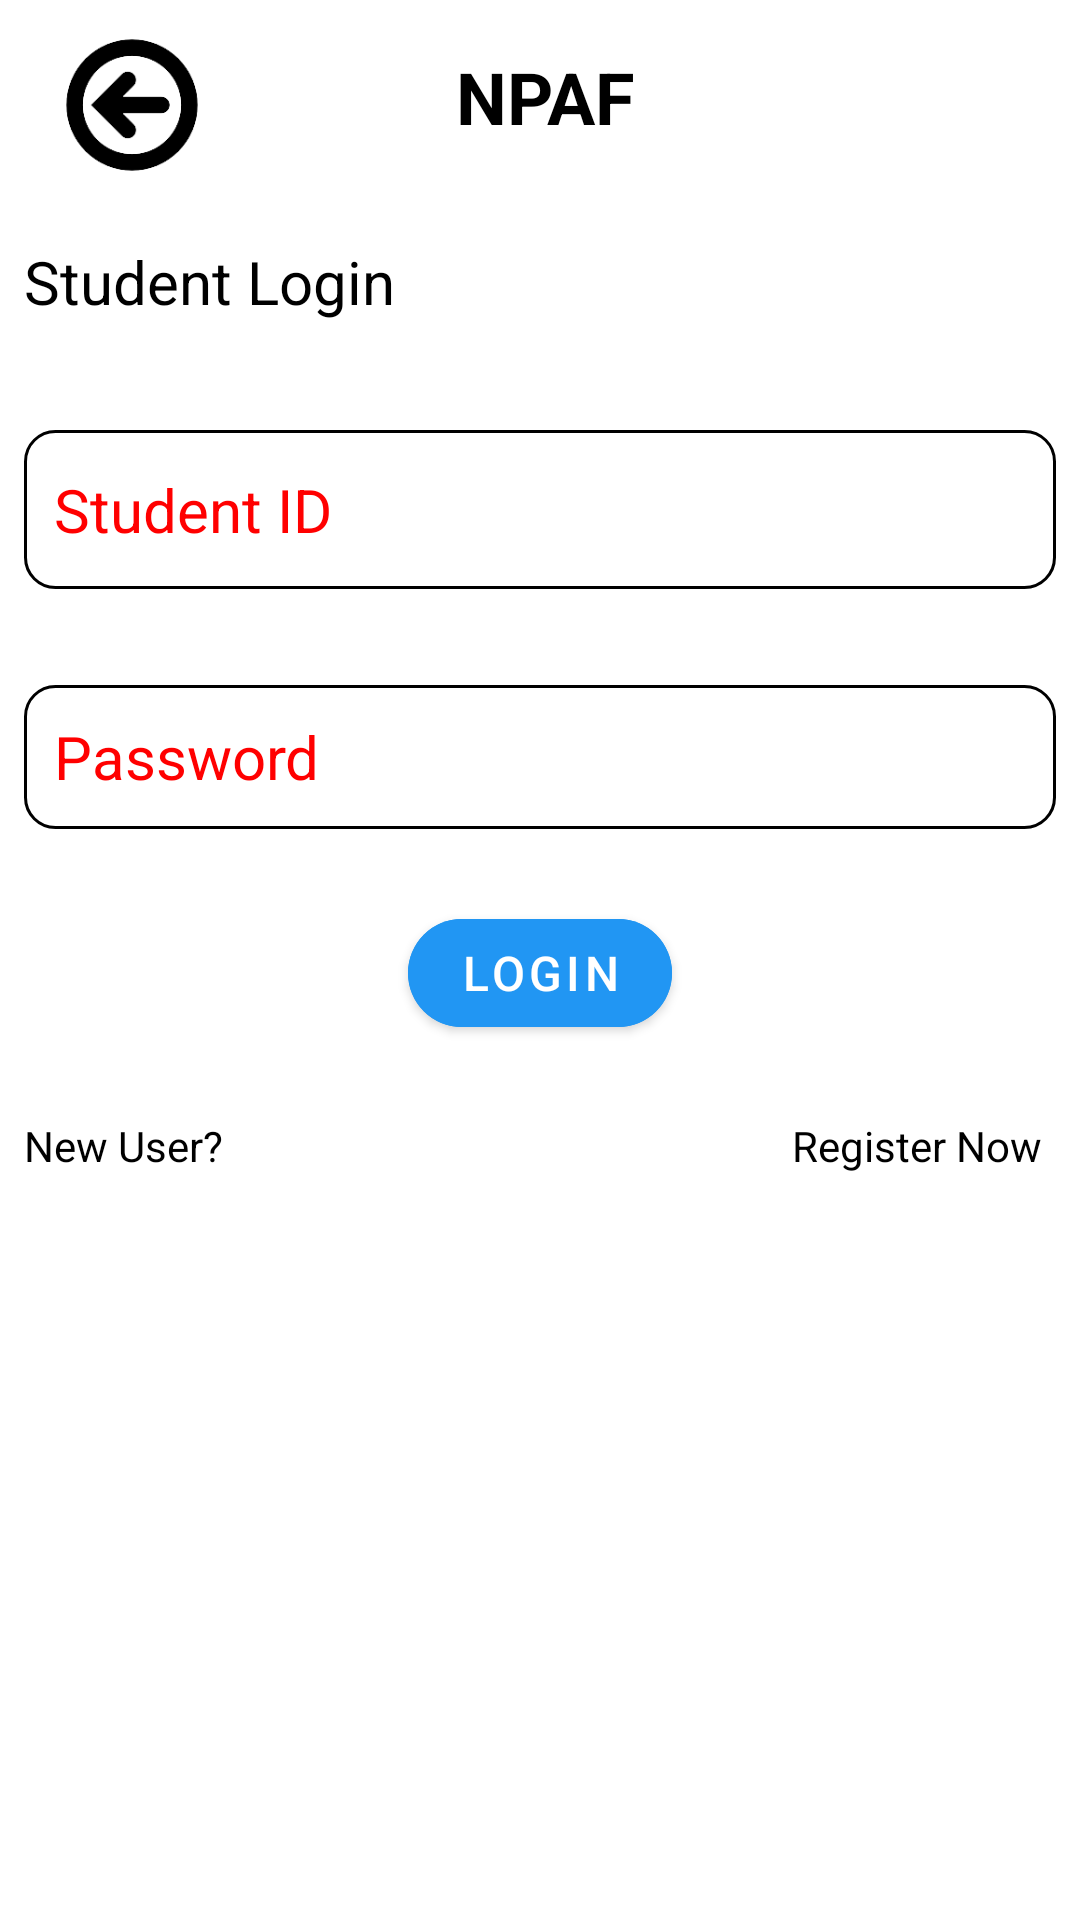

Icons on this 1080x1920 Android screen, each with its box as (x1, y1, x2, y2):
backbutton: (66, 39, 198, 171)
